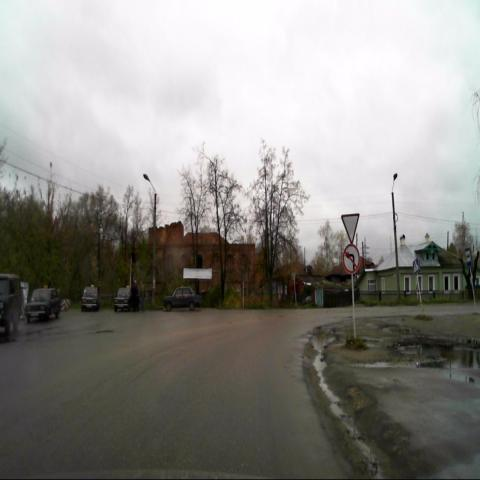3_18_2: (342, 243, 360, 273)
